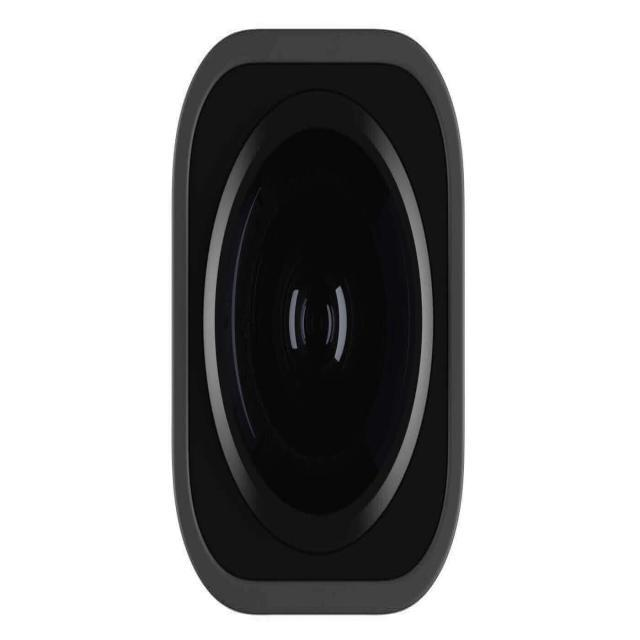hidden camera: (176, 47, 466, 598)
